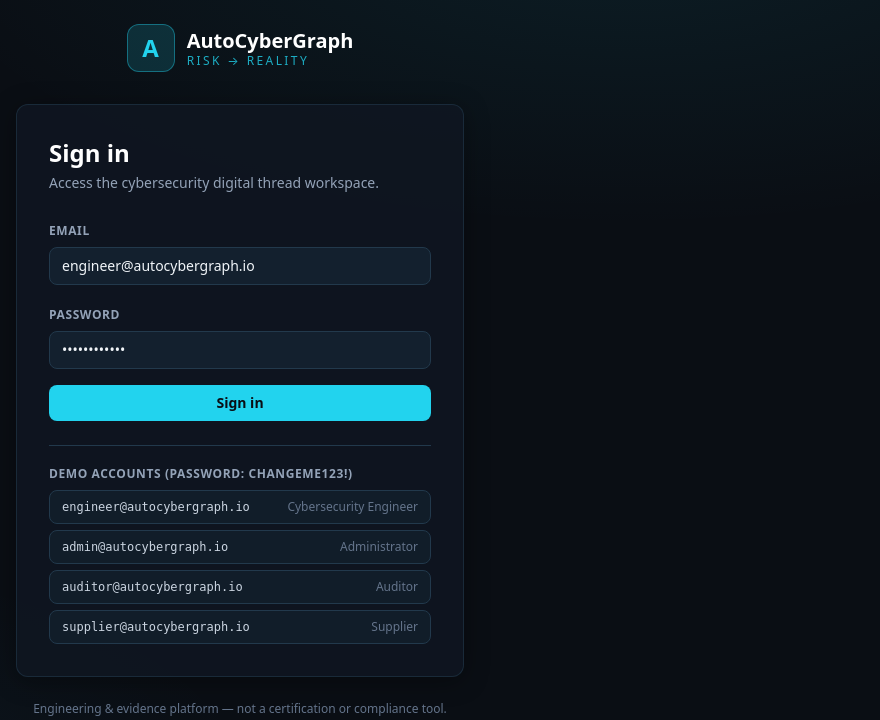
Test: Login flow › shows error on invalid credentials
Click the button "Sign in" at (240, 403), box [49,385,431,421]
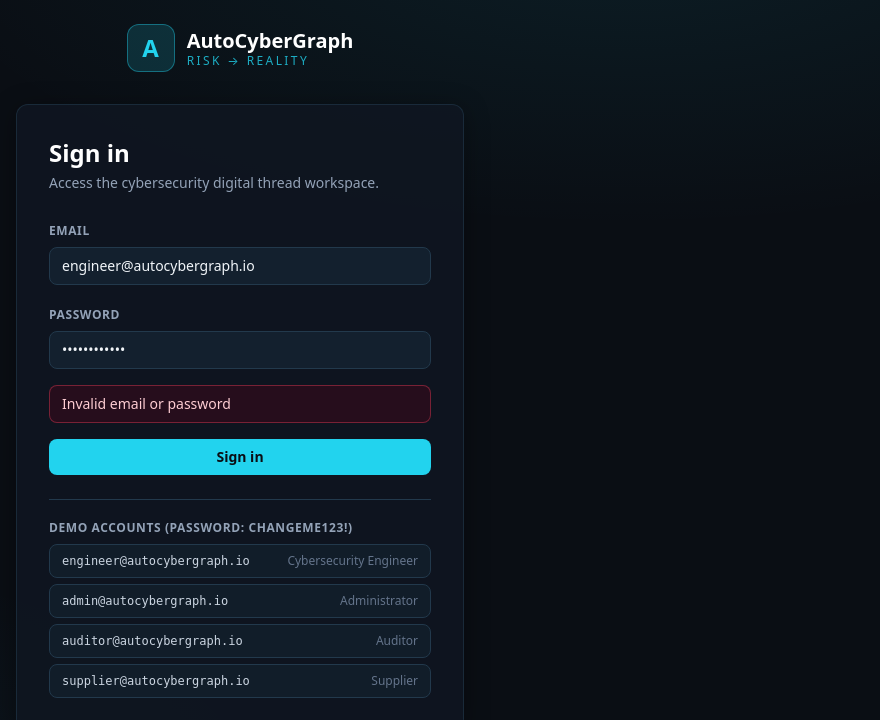
Expected: the text "Invalid email or password" is shown, [49,385,431,423]
